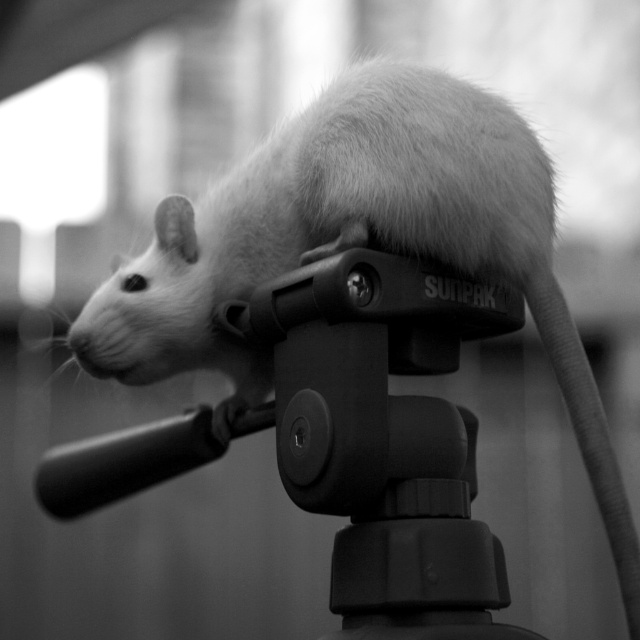Mouse: (28, 59, 640, 640)
